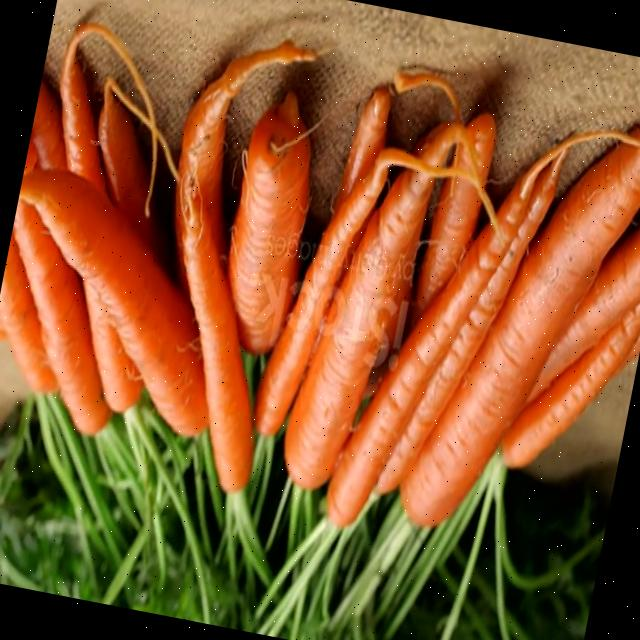carrot: (400, 129, 640, 526), (326, 159, 543, 527), (283, 123, 462, 487), (375, 153, 564, 493), (18, 168, 207, 435), (253, 159, 391, 435), (12, 199, 110, 434), (502, 301, 640, 465), (228, 92, 310, 353), (183, 192, 253, 489), (528, 224, 640, 401), (412, 113, 494, 321), (175, 56, 255, 240), (97, 81, 158, 260), (0, 233, 56, 391), (58, 21, 104, 192), (83, 280, 142, 412), (334, 87, 391, 210), (30, 81, 65, 169)
